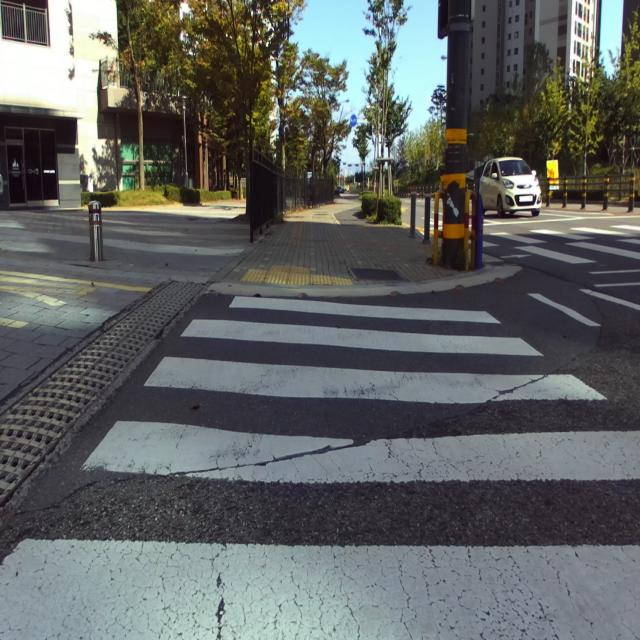횡단보도: (0, 296, 640, 640)
